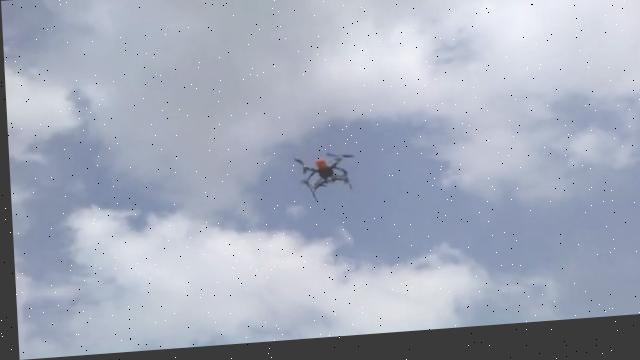drone: (290, 151, 356, 205)
